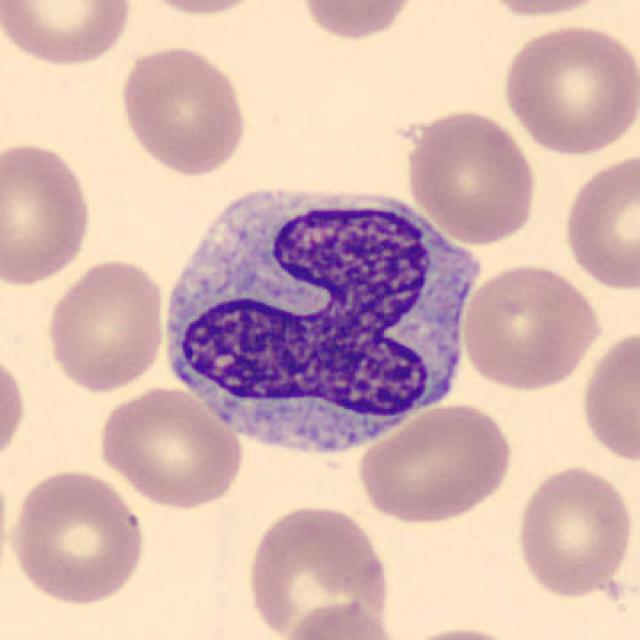Monocyte: (149, 168, 489, 467)
RBC: (243, 499, 394, 640), (354, 400, 516, 526), (7, 466, 149, 608), (400, 106, 540, 247), (498, 19, 638, 159), (94, 383, 246, 511), (458, 261, 604, 393), (116, 42, 250, 178), (41, 256, 169, 395), (512, 460, 635, 600), (0, 136, 96, 289), (558, 148, 638, 293), (0, 0, 137, 69), (576, 324, 638, 466), (280, 597, 405, 640), (297, 0, 423, 42), (0, 346, 30, 470), (474, 0, 622, 19), (128, 0, 276, 18), (391, 622, 530, 640), (0, 455, 11, 591)
